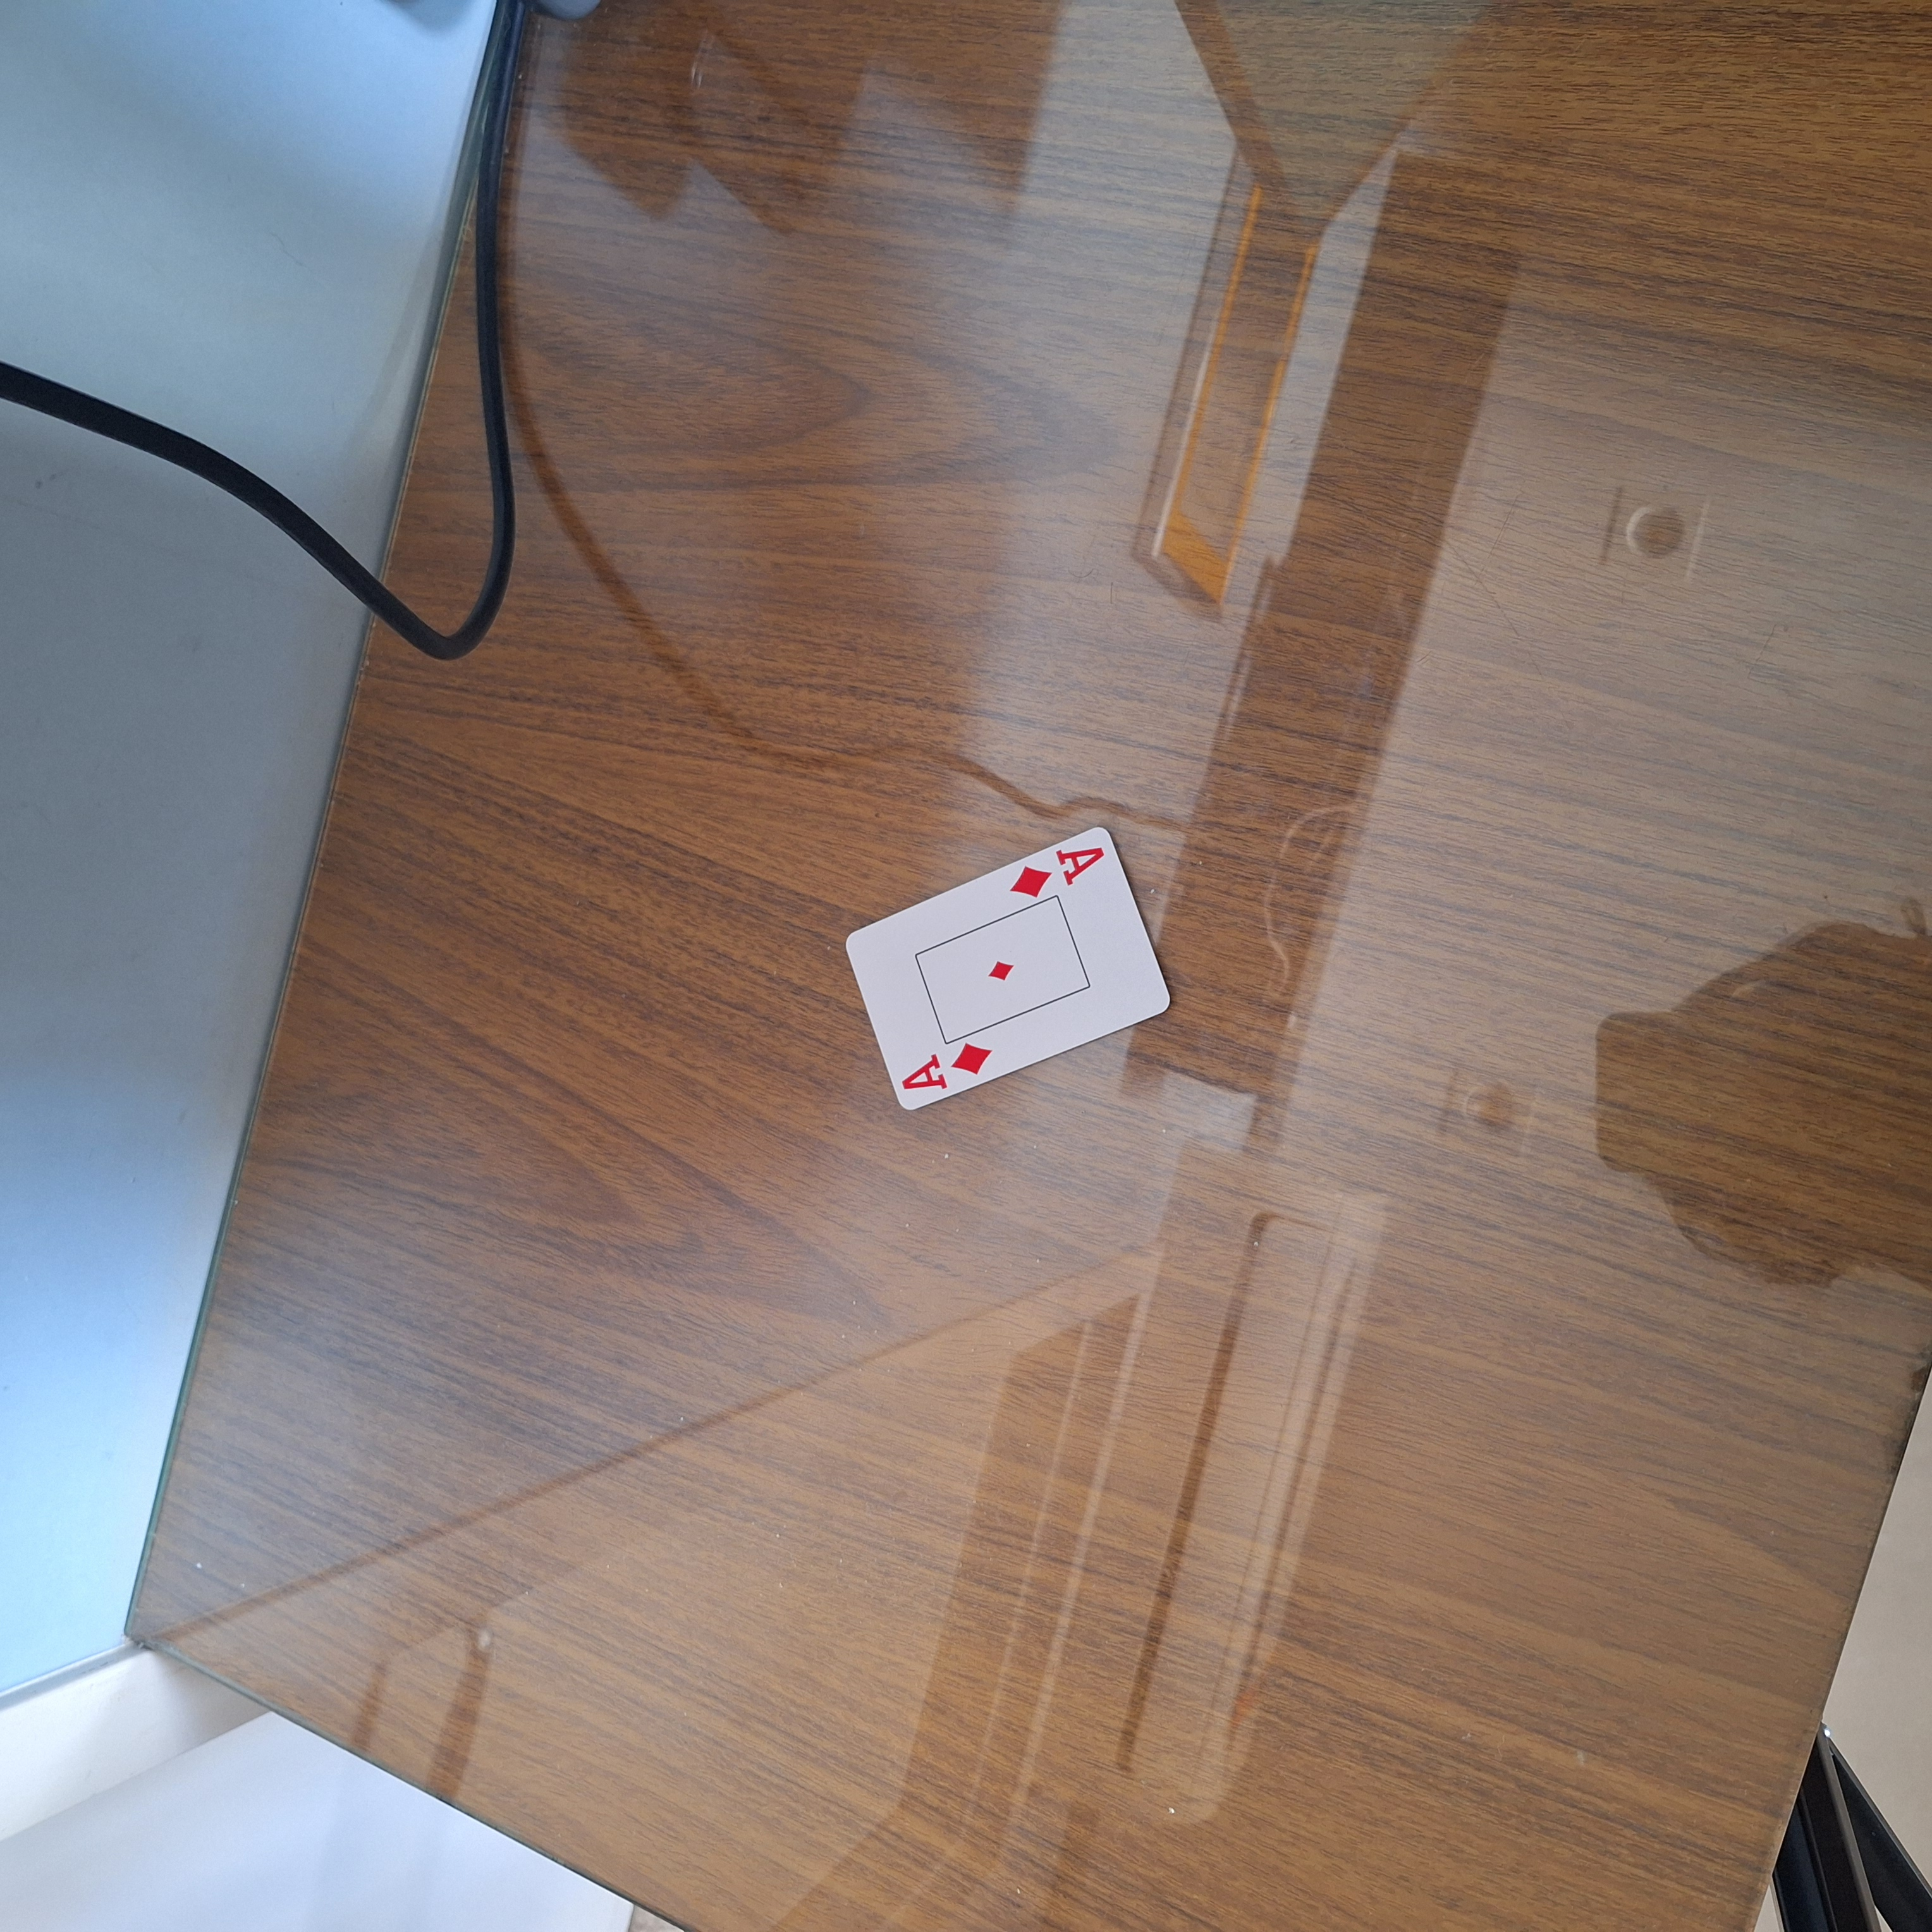AO: (890, 1035, 1000, 1102), (1003, 837, 1111, 904)
